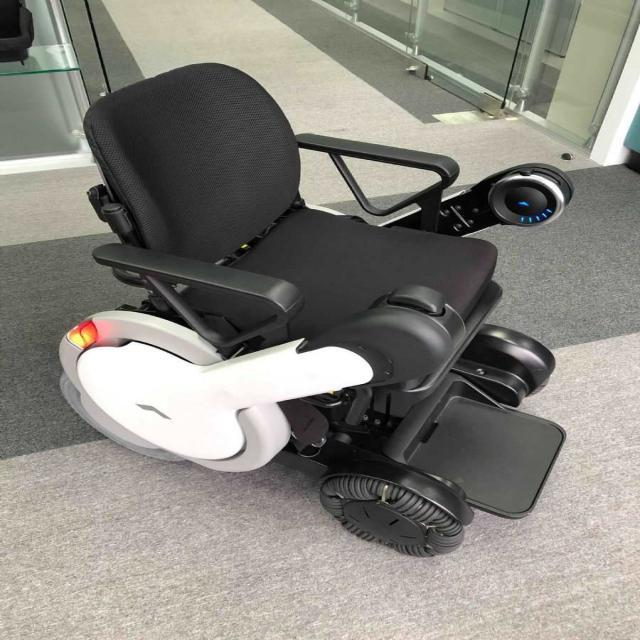wheelchair: (30, 50, 620, 577)
